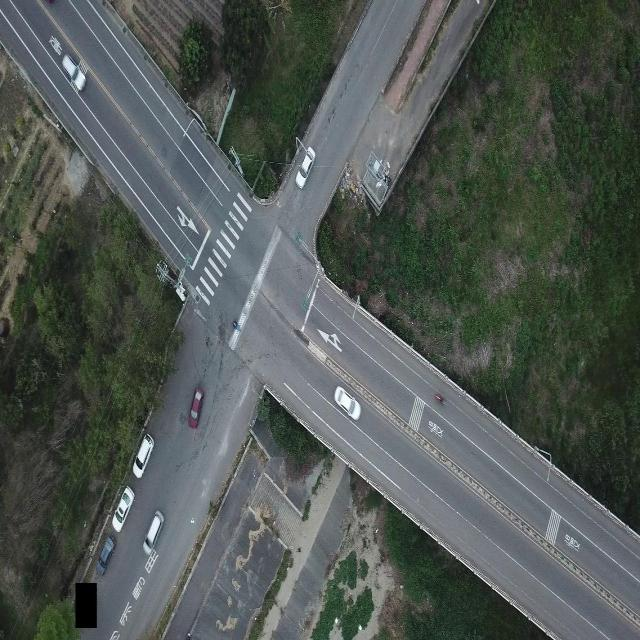car: (61, 52, 87, 93), (334, 385, 362, 422), (112, 485, 134, 530), (131, 434, 154, 477), (144, 511, 164, 551), (98, 534, 116, 577), (295, 148, 314, 188), (188, 386, 204, 427)
